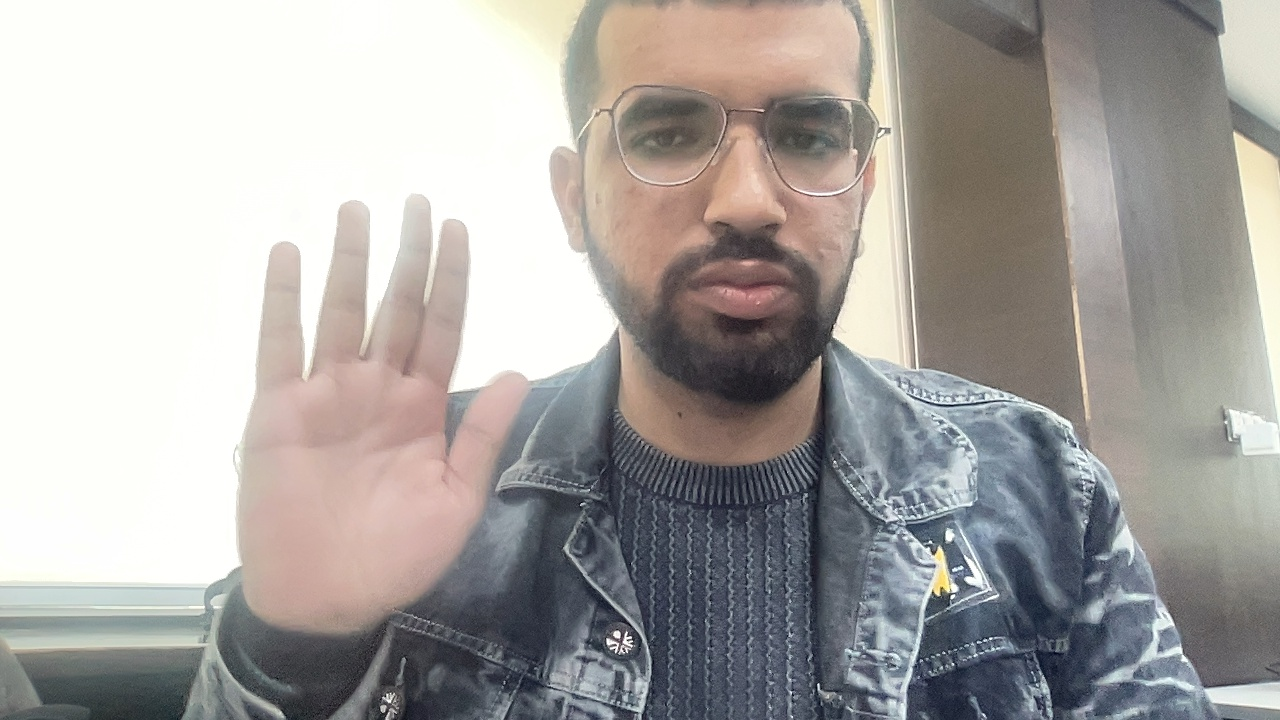Hello: (202, 173, 567, 664)
